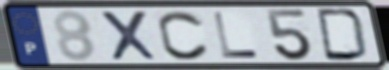5: (263, 7, 314, 63)
8: (52, 8, 98, 63)
C: (155, 9, 212, 62)
D: (314, 6, 371, 62)
L: (211, 11, 263, 60)
X: (97, 9, 162, 62)
